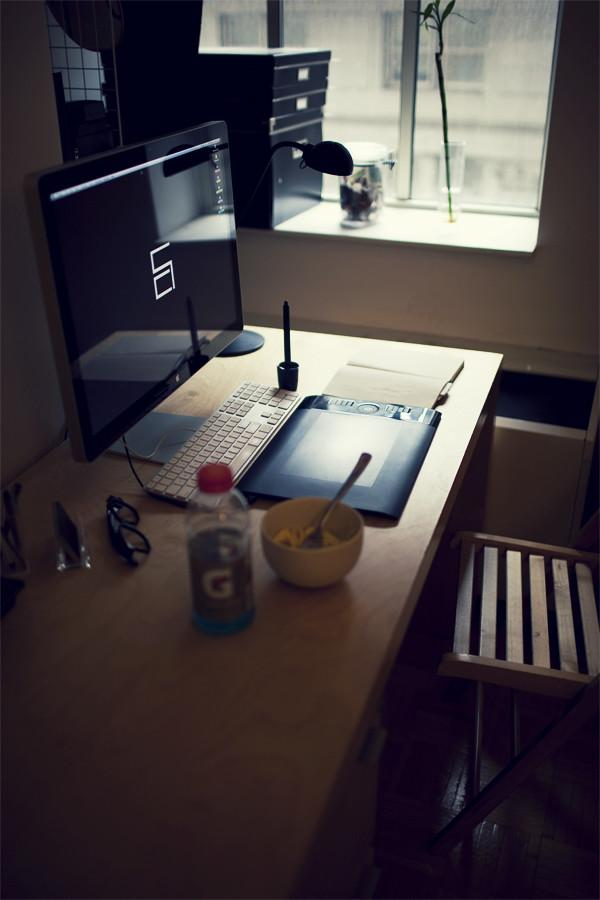computer: (26, 119, 247, 464)
